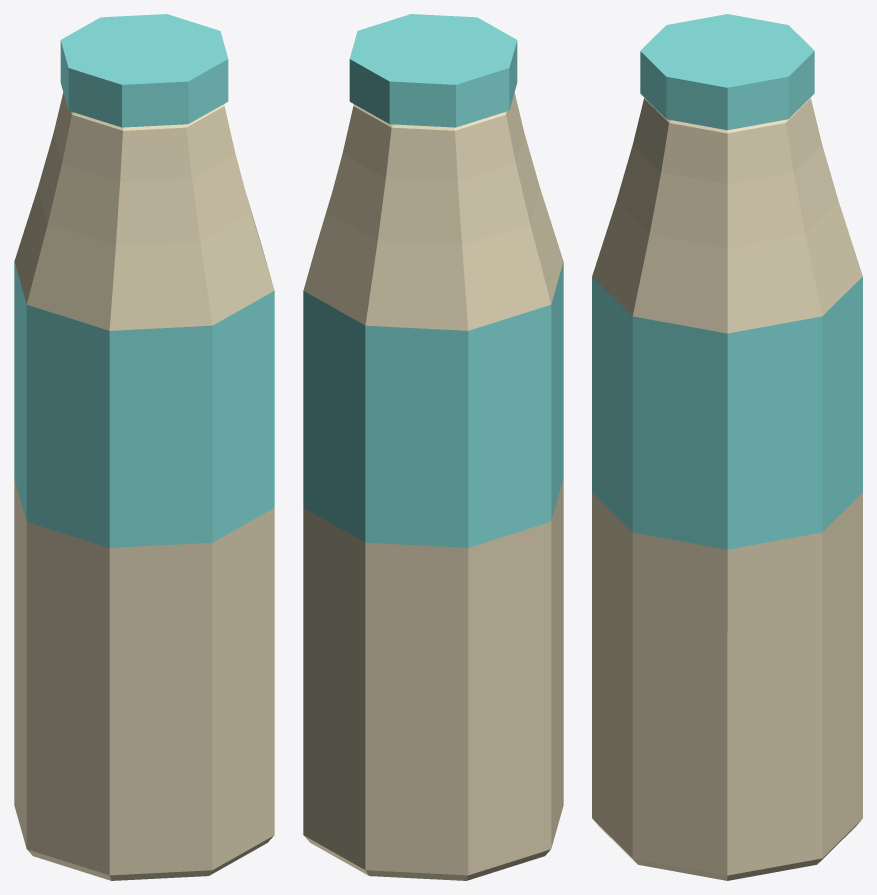
The model's file is bottle.fbx.
3 renders of one model, left to right at view 1: azimuth 30°, elevation 25°; view 2: azimuth 150°, elevation 25°; view 3: azimuth 270°, elevation 25°, orthographic.
Parts seen in each view (by area): view 1: Plane; view 2: Plane; view 3: Plane.
Part boxes in pixels (x1,y1,x2,y2): Plane: (14, 14, 274, 880); Plane: (303, 14, 563, 880); Plane: (592, 14, 862, 880).
Bounding box in the file's own units: 211 × 668 × 211.
